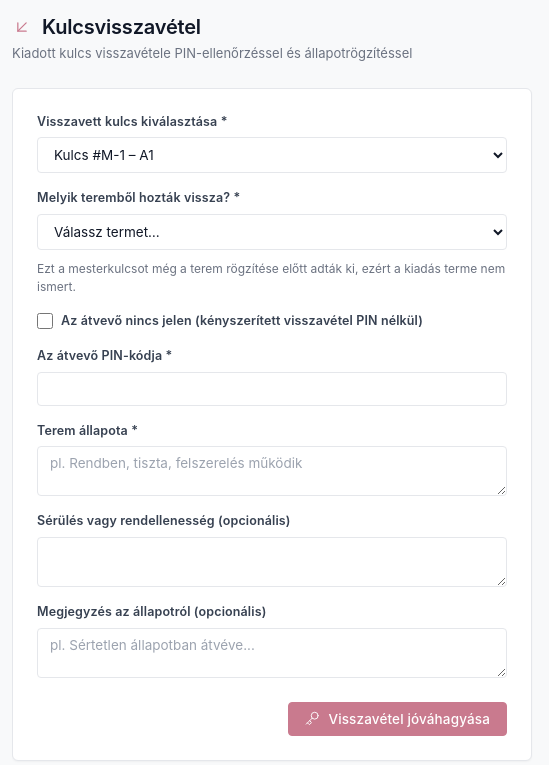
it: KeyReturnPage › asks for the room when a legacy master key has no recorded issue room
Select "B2" in the dropdown labelled "Melyik teremből hozták vissza? *" at (272, 232), box [37,214,507,250]
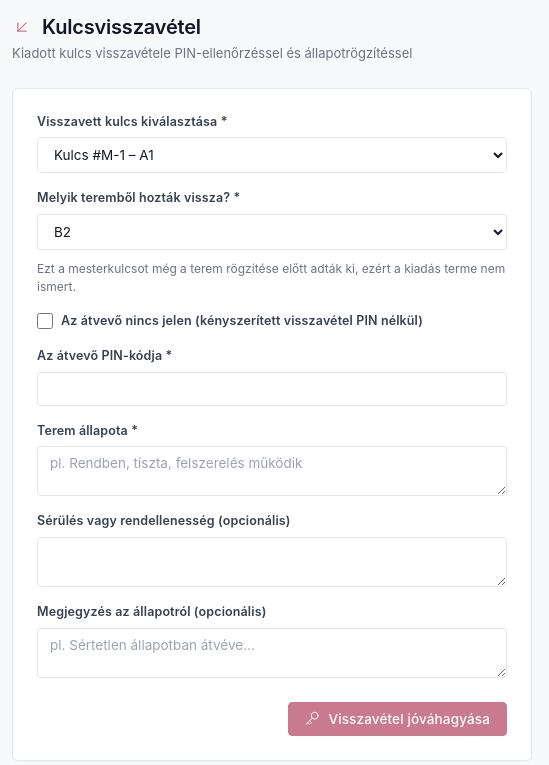
Type "1234" into the password field labelled "Az átvevő PIN-kódja *" at (272, 388), box [37,372,507,406]
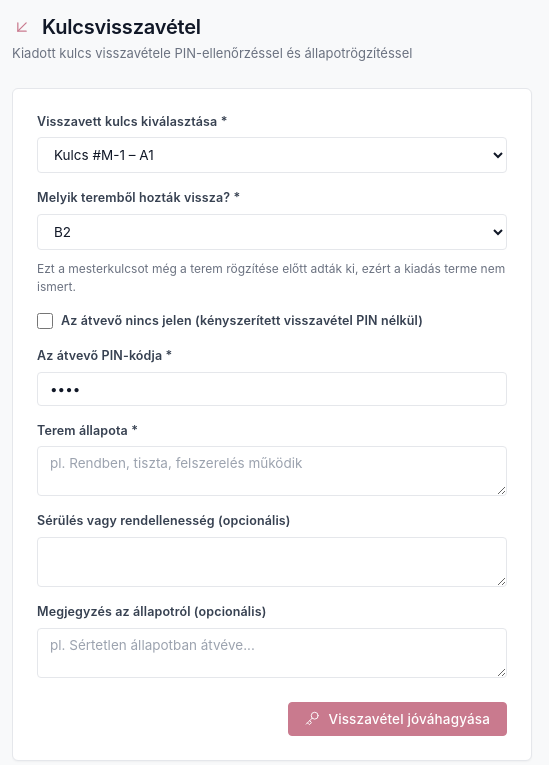
Type "Rendben" into the text box labelled "Terem állapota *" at (272, 471), box [37,446,507,496]
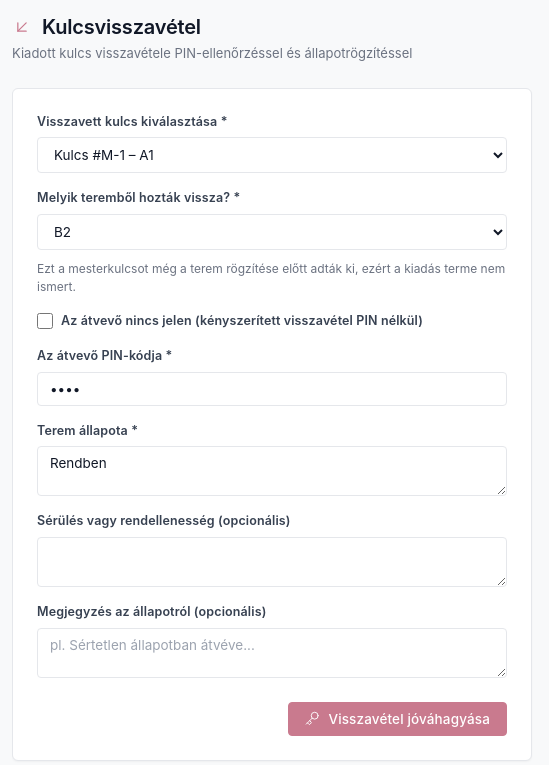
Click the button "Visszavétel jóváhagyása" at (398, 719), box [288,702,507,736]
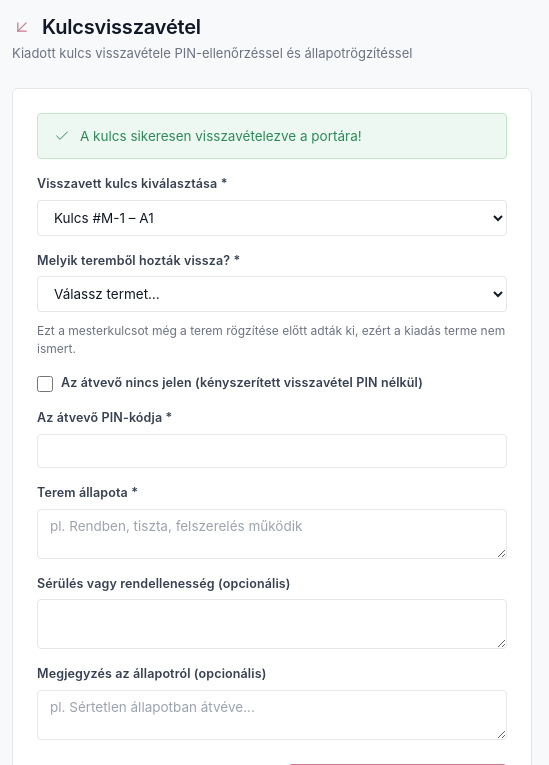
Result: the text "A kulcs sikeresen visszavételezve a portára!" is shown at [80,126,362,146]
